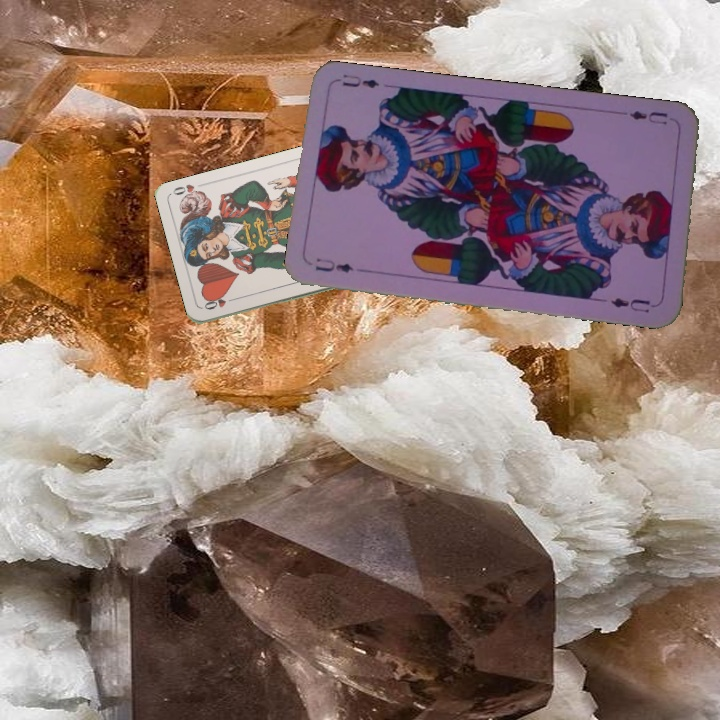EU: (311, 254, 356, 275), (626, 106, 670, 127)
HO: (200, 294, 240, 312)
